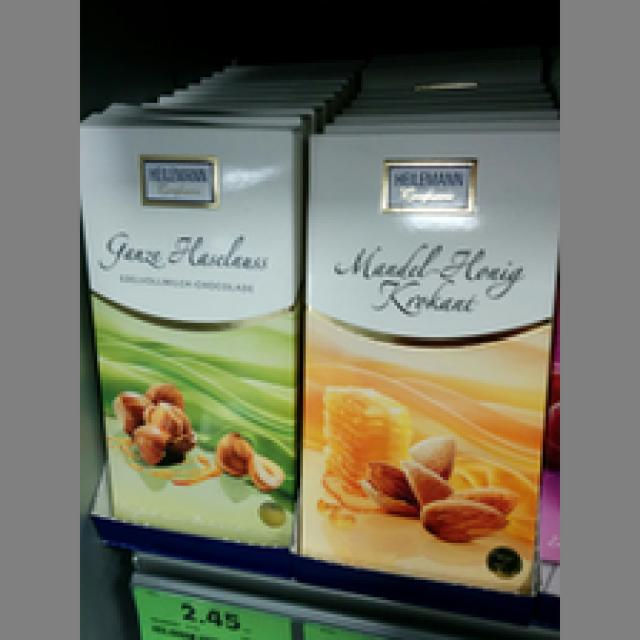groceries: (294, 123, 554, 588), (77, 111, 297, 540)
